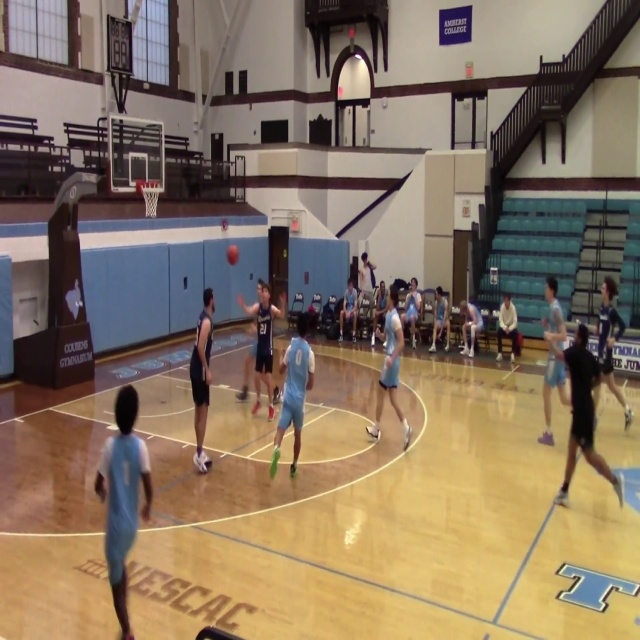Basketball: (227, 244, 239, 265), (221, 219, 228, 231)
